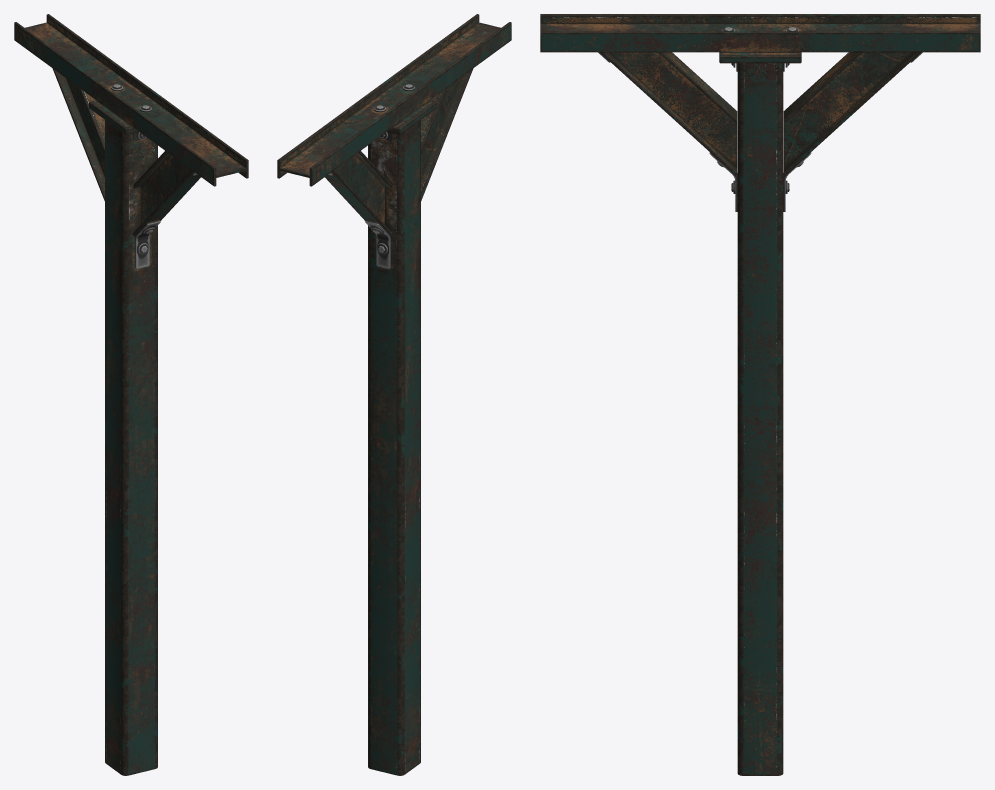
The model's file is Foundation.fbx.
The picture shows the model from 3 angles, left to right: view 1: azimuth 30°, elevation 25°; view 2: azimuth 150°, elevation 25°; view 3: azimuth 270°, elevation 25°; orthographic projection. The views are drawn at different scales.
Visible parts, largest first — view 1: Null; view 2: Null; view 3: Null.
Boxes of the visible parts, bbox=[...] form: Null: bbox=[14, 14, 248, 775]; Null: bbox=[277, 14, 511, 775]; Null: bbox=[540, 14, 980, 775].
Bounding box in the file's own units: 27.78 × 370 × 199.
1 material, 1 textured.
